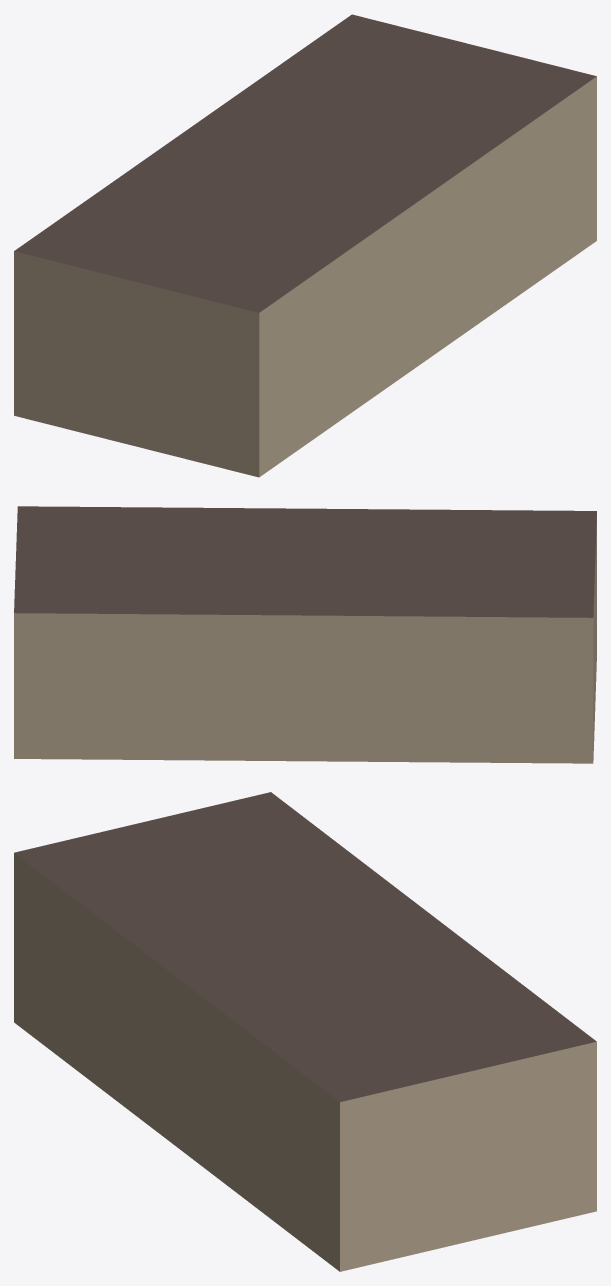
The picture shows the model from 3 angles, top to bottom: view 1: azimuth 30°, elevation 25°; view 2: azimuth 150°, elevation 25°; view 3: azimuth 270°, elevation 25°; orthographic projection. The views are drawn at different scales.
Visible parts, largest first — view 1: HP-w859447937; view 2: HP-w859447937; view 3: HP-w859447937.
Part boxes in pixels (x1,y1,x2,y2): HP-w859447937: (14,14,596,477); HP-w859447937: (14,506,596,763); HP-w859447937: (14,792,596,1271).
Size of the model in its own units: 35.27 by 9 by 28.02.
